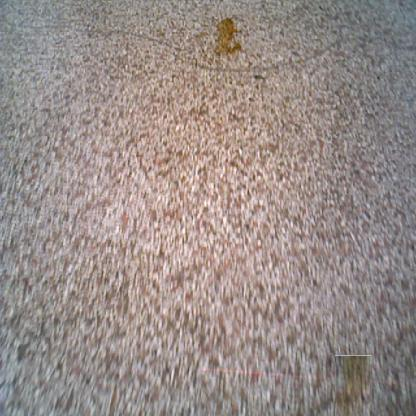liquid: (336, 355, 372, 416), (213, 18, 243, 58)
